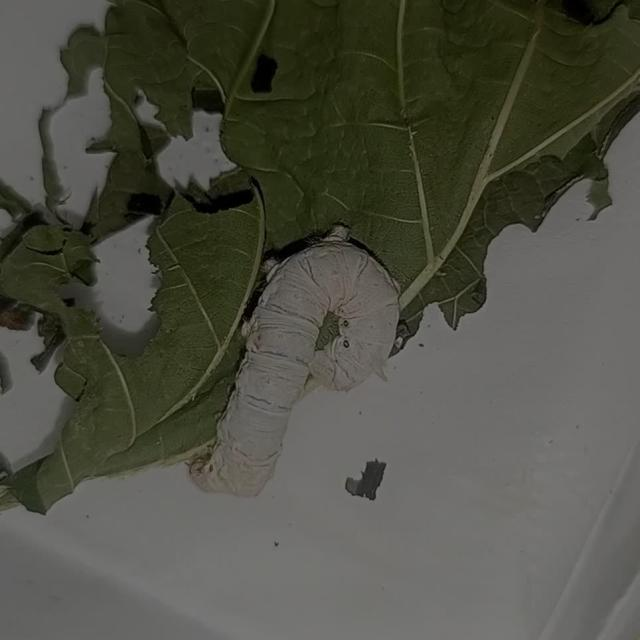Healthy: (189, 215, 409, 502)
